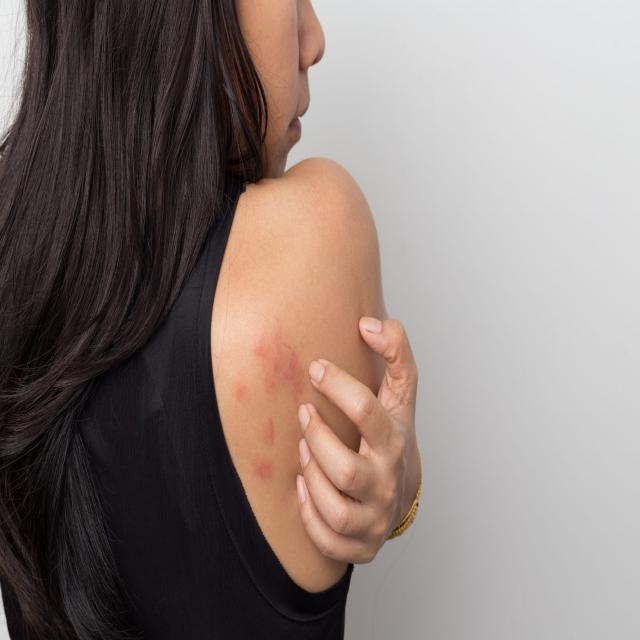hives: (231, 315, 319, 493)
